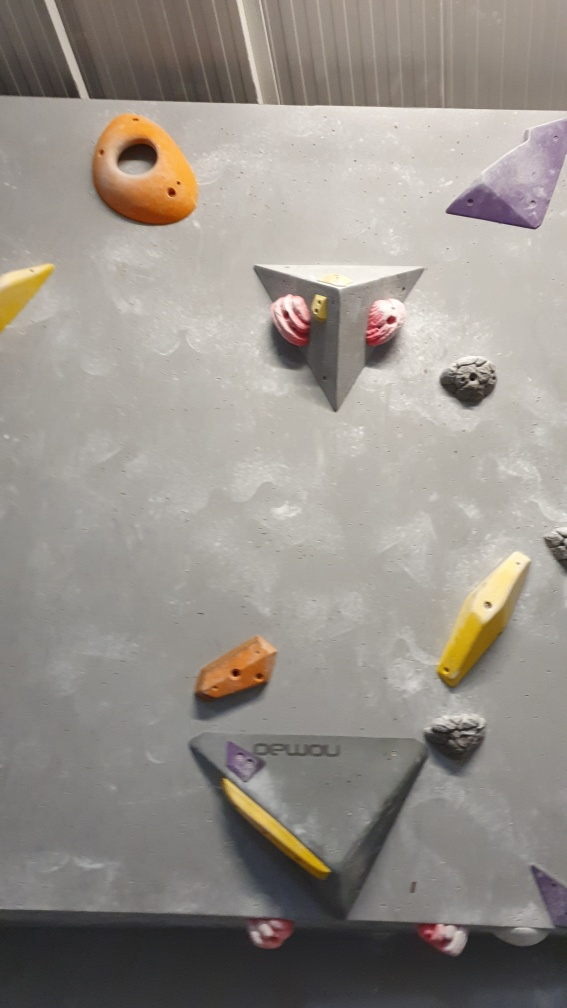Jug: (420, 708, 493, 764), (439, 353, 501, 411), (270, 288, 315, 357), (365, 295, 412, 355), (245, 917, 297, 960), (416, 921, 467, 958)
Pinch: (436, 547, 536, 698), (193, 631, 276, 714)
Pocket: (93, 112, 205, 222)
